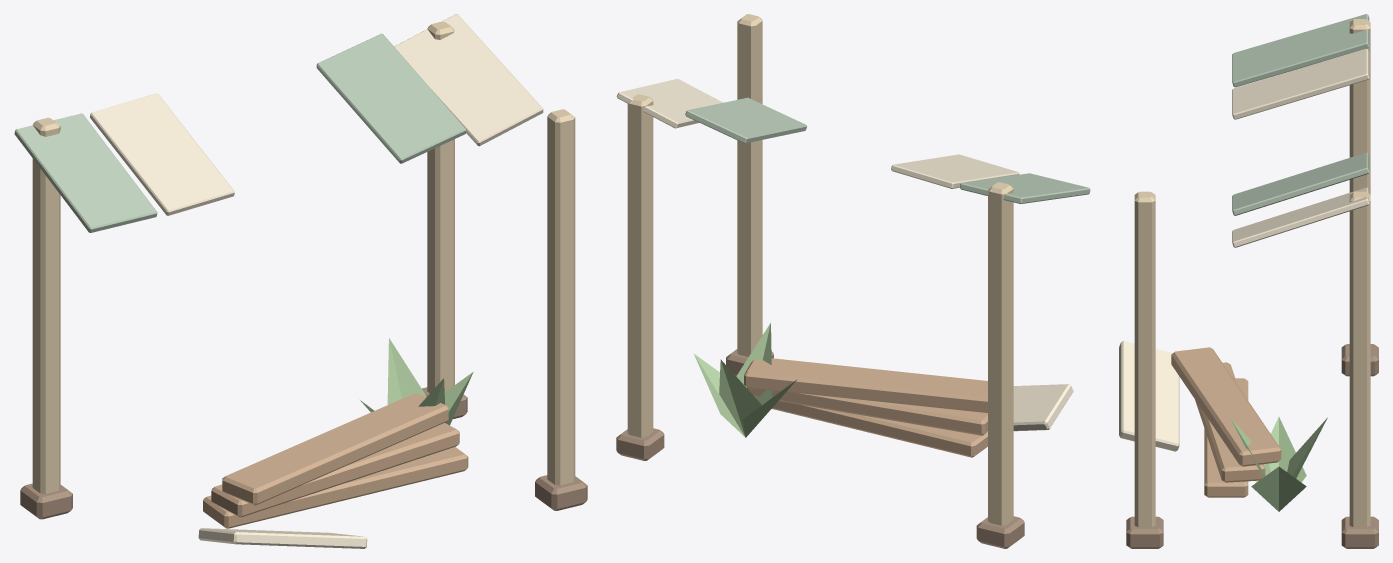
The model's file is crafted-post-abandoned.glb.
The picture shows the model from 3 angles, left to right: view 1: azimuth 30°, elevation 25°; view 2: azimuth 150°, elevation 25°; view 3: azimuth 270°, elevation 25°; orthographic projection. The views are drawn at different scales.
Visible parts, largest first — view 1: post-2, torn-canvas-2, post, torn-canvas-3, torn-canvas-1, counter-boards-2, torn-canvas, post-1, counter-boards, counter-boards-1, fallen-sign, shrub (+2 smaller); view 2: post-1, post, counter-boards-2, post-2, counter-boards-1, counter-boards, shrub, torn-canvas-2, torn-canvas-3, torn-canvas-1, fallen-sign, torn-canvas (+2 smaller); view 3: post-2, post-1, counter-boards-2, torn-canvas, torn-canvas-1, fallen-sign, torn-canvas-2, shrub, torn-canvas-3, post, counter-boards-1, counter-boards (+3 smaller).
Boxes of the visible parts, box(x1,y1,x2,y2) form: post-2: box(547, 109, 575, 485); torn-canvas-2: box(316, 33, 466, 163); post: box(32, 117, 60, 493); torn-canvas-3: box(394, 14, 543, 146); torn-canvas-1: box(90, 93, 234, 215); counter-boards-2: box(222, 393, 448, 505); torn-canvas: box(14, 113, 157, 232); post-1: box(427, 21, 454, 392); counter-boards: box(203, 447, 468, 528); counter-boards-1: box(211, 423, 459, 517); fallen-sign: box(198, 528, 367, 548); shrub: box(360, 338, 473, 425); post-1: box(627, 94, 653, 437); post: box(988, 182, 1013, 525); counter-boards-2: box(744, 358, 987, 412); post-2: box(737, 14, 762, 356); counter-boards-1: box(747, 387, 987, 435); counter-boards: box(772, 401, 987, 457); shrub: box(693, 323, 796, 437); torn-canvas-2: box(685, 97, 807, 143); torn-canvas-3: box(616, 78, 722, 128); torn-canvas-1: box(891, 154, 1019, 188); fallen-sign: box(1013, 384, 1073, 431); torn-canvas: box(960, 173, 1090, 203); post-2: box(1134, 191, 1155, 527); post-1: box(1349, 191, 1370, 527); counter-boards-2: box(1171, 347, 1281, 466); torn-canvas: box(1232, 14, 1369, 87); torn-canvas-1: box(1232, 48, 1369, 119); fallen-sign: box(1119, 341, 1179, 451); torn-canvas-2: box(1232, 152, 1369, 215); shrub: box(1230, 417, 1327, 511); torn-canvas-3: box(1232, 187, 1369, 247); post: box(1349, 19, 1370, 194); counter-boards-1: box(1195, 362, 1265, 482); counter-boards: box(1204, 378, 1248, 497).
Bounding box in the file's own units: 2.14 × 1.78 × 1.18.
